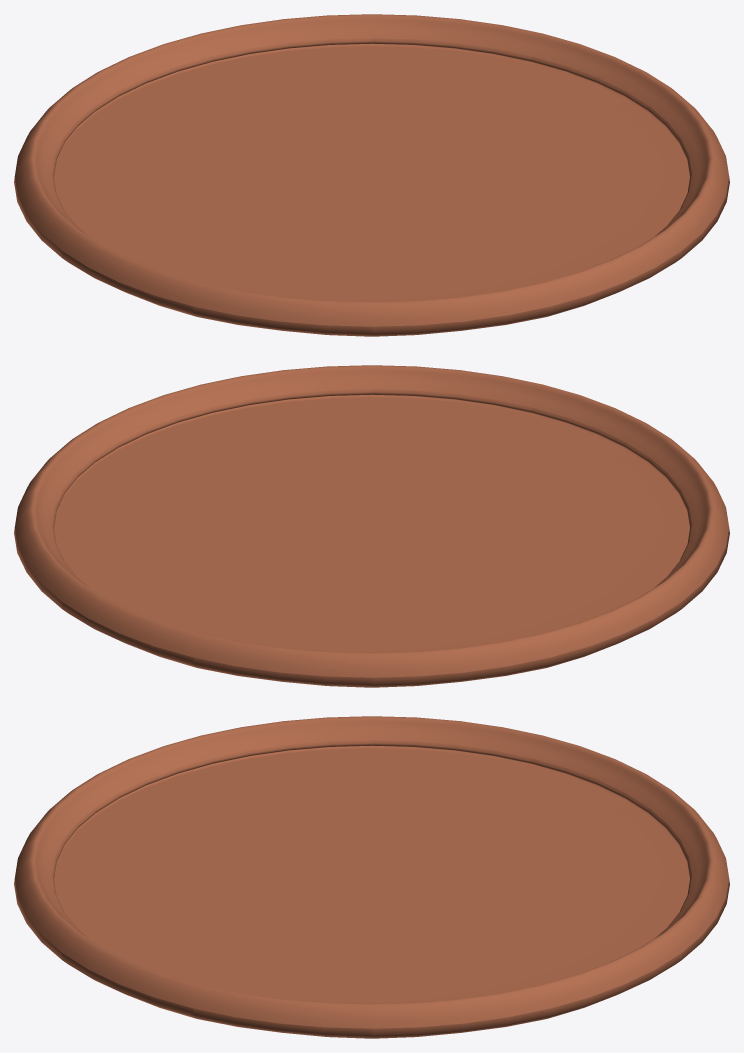
Rendered from pizza.fbx.
3 renders of one model, top to bottom at view 1: azimuth 30°, elevation 25°; view 2: azimuth 150°, elevation 25°; view 3: azimuth 270°, elevation 25°, orthographic.
Visible parts, largest first — view 1: piz.002; view 2: piz.002; view 3: piz.002.
Part boxes in pixels (x1=…): piz.002: x1=14, y1=14, x2=729, y2=336; piz.002: x1=14, y1=365, x2=729, y2=687; piz.002: x1=14, y1=716, x2=729, y2=1038.
Bounding box in the file's own units: 83.52 × 5.83 × 83.52.
